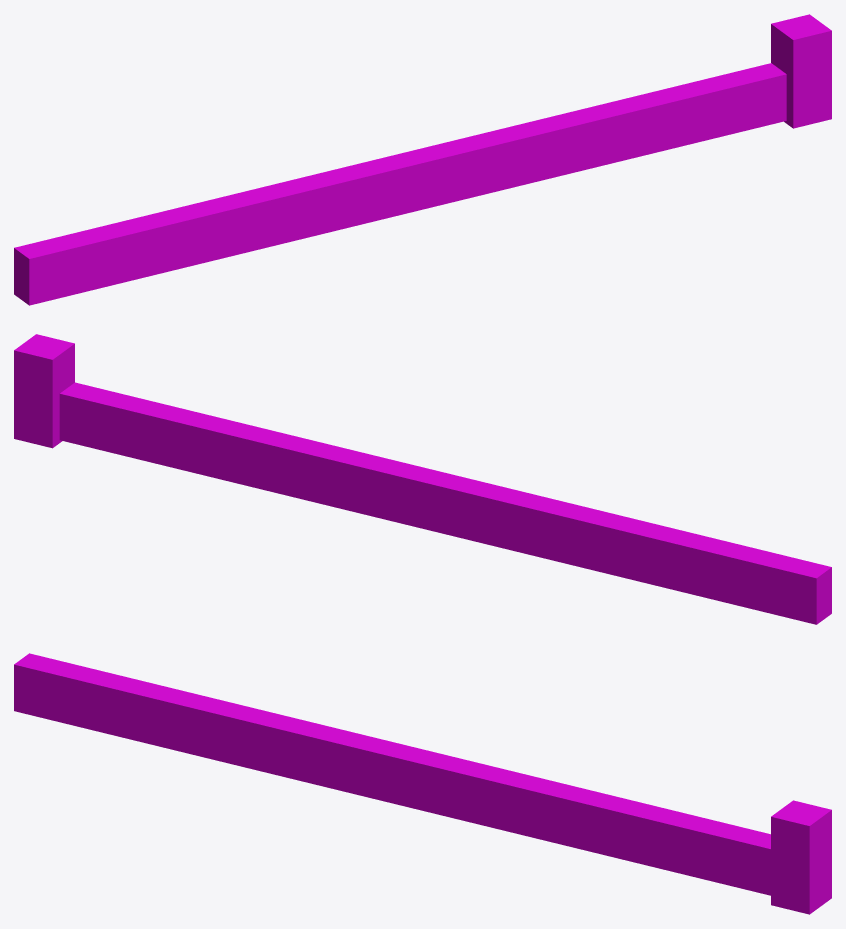
Rendered from SM_OverheadLightSinglePart02Collider.fbx.
3 views of the same model, one above another, from view 1: azimuth 30°, elevation 25°; view 2: azimuth 150°, elevation 25°; view 3: azimuth 330°, elevation 25° (orthographic).
Parts seen in each view (by area): view 1: OverheadLightSinglePart02Collision; view 2: OverheadLightSinglePart02Collision; view 3: OverheadLightSinglePart02Collision.
Part boxes in pixels (<box>): OverheadLightSinglePart02Collision: <box>14,14,831,305</box>; OverheadLightSinglePart02Collision: <box>14,334,831,624</box>; OverheadLightSinglePart02Collision: <box>14,653,831,914</box>.
Bounding box in the file's own units: 89.89 × 9.51 × 4.35.
